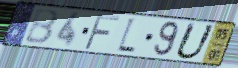4: (53, 10, 82, 50)
9: (153, 19, 181, 58)
B: (23, 8, 60, 46)
F: (82, 12, 121, 52)
L: (115, 15, 138, 55)
U: (173, 21, 218, 61)
